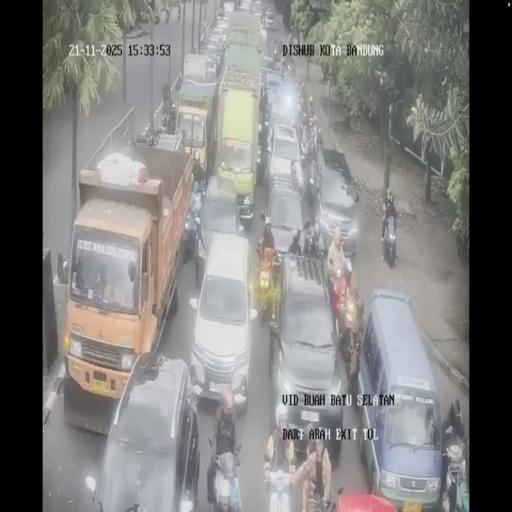3: (172, 74, 218, 184), (223, 12, 263, 76)
car: (356, 290, 441, 505), (90, 353, 200, 509), (268, 255, 343, 456), (195, 173, 248, 284), (314, 153, 359, 257), (263, 184, 305, 262), (266, 122, 304, 197), (261, 68, 289, 110), (202, 41, 224, 77), (259, 26, 269, 60), (216, 2, 228, 20), (250, 0, 262, 16), (239, 0, 252, 13), (264, 10, 274, 26)
truck: (206, 432, 243, 508), (265, 453, 297, 512), (326, 247, 354, 304), (305, 150, 321, 208), (382, 212, 398, 266), (285, 60, 293, 81), (177, 4, 181, 22)
